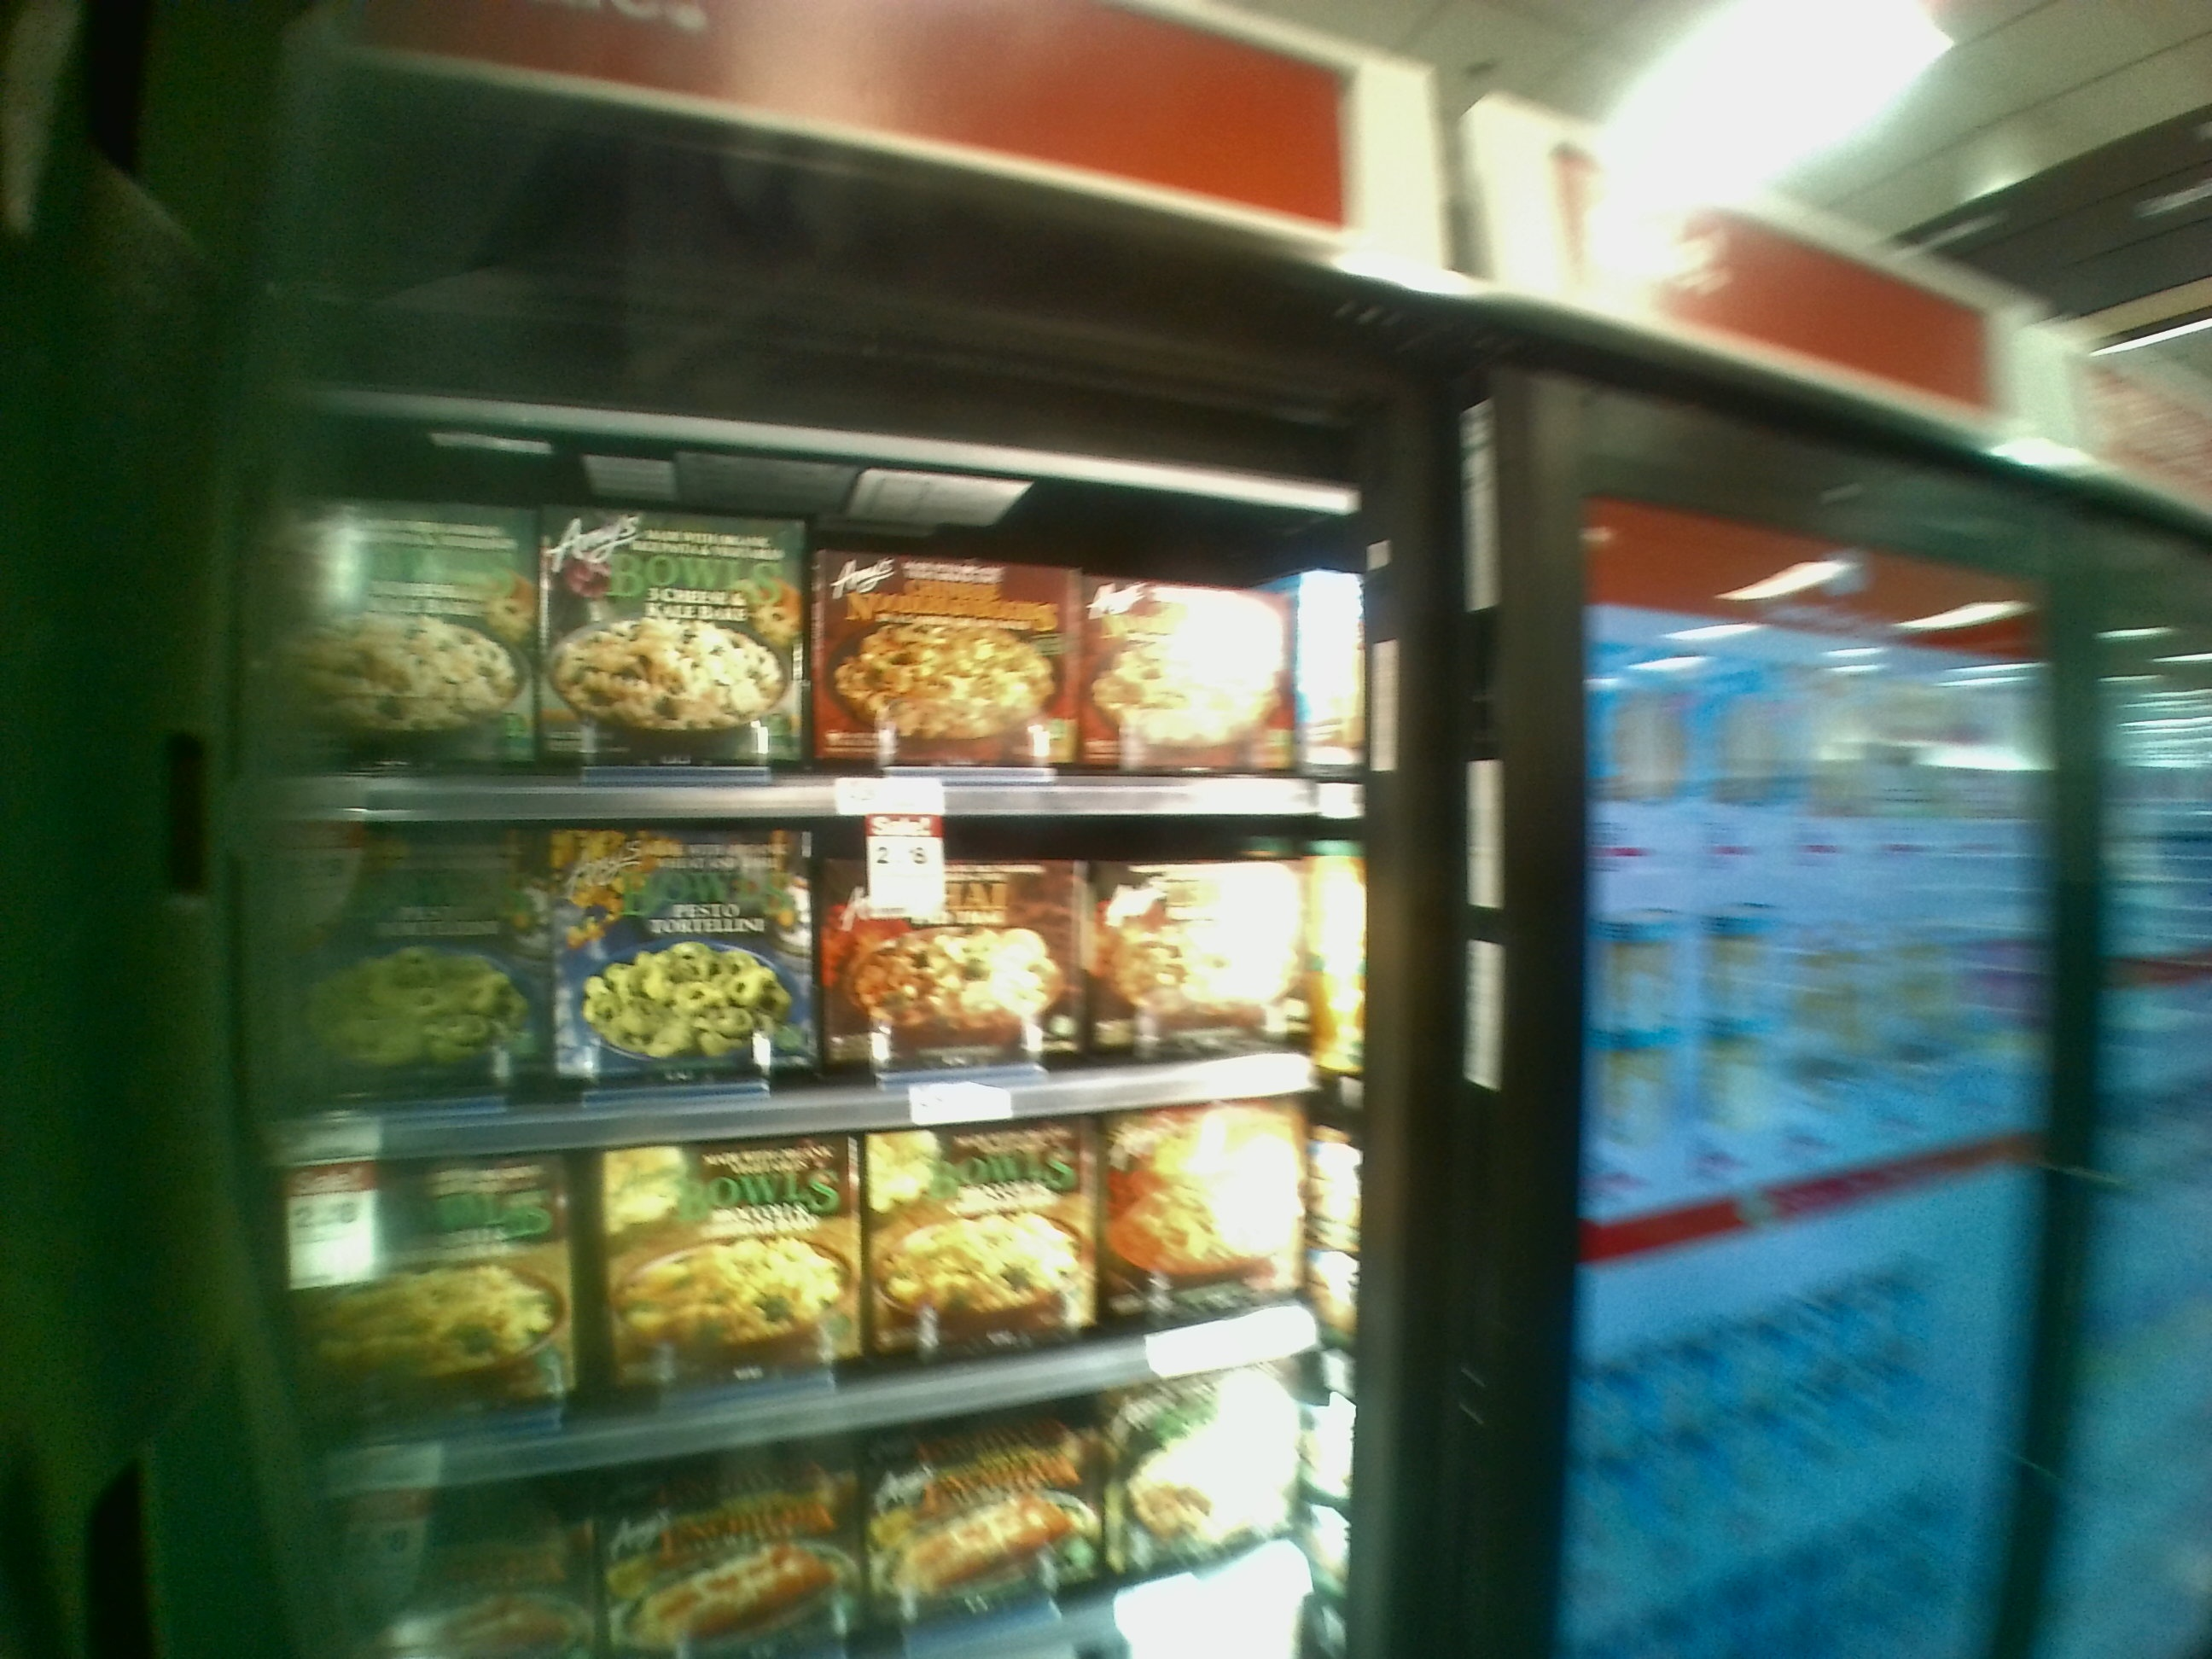shelf: (256, 436, 1353, 814), (270, 821, 1338, 1133), (300, 1117, 1339, 1399)
